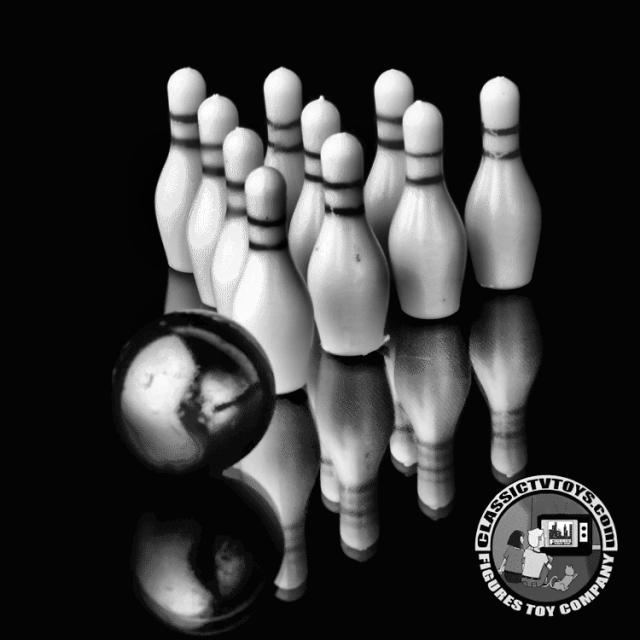bowling-ball: (113, 311, 275, 474)
bowling-pins: (307, 131, 391, 356), (232, 166, 314, 394), (389, 100, 468, 319), (466, 76, 543, 289), (186, 93, 239, 307), (154, 67, 207, 273), (211, 126, 264, 318), (364, 68, 415, 255), (288, 96, 340, 278), (264, 67, 305, 221)
